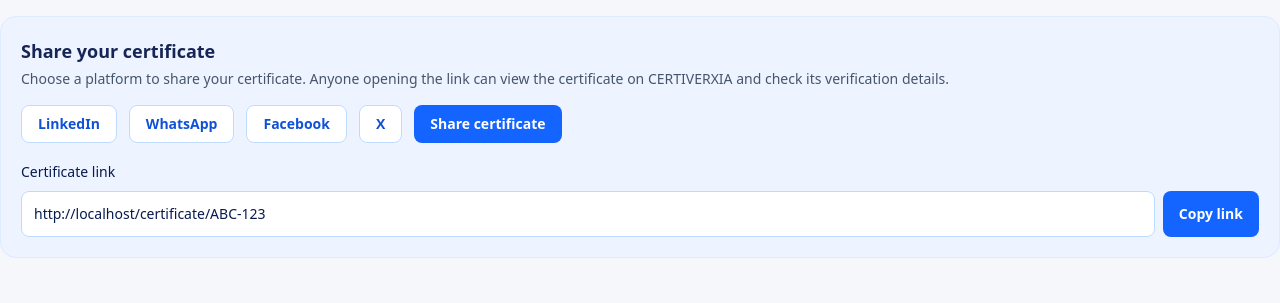
native share handles NotAllowedError and remains usable
The image size is (1280, 303).
Click the button "Share certificate" at [488, 124], box [414,105,562,143]
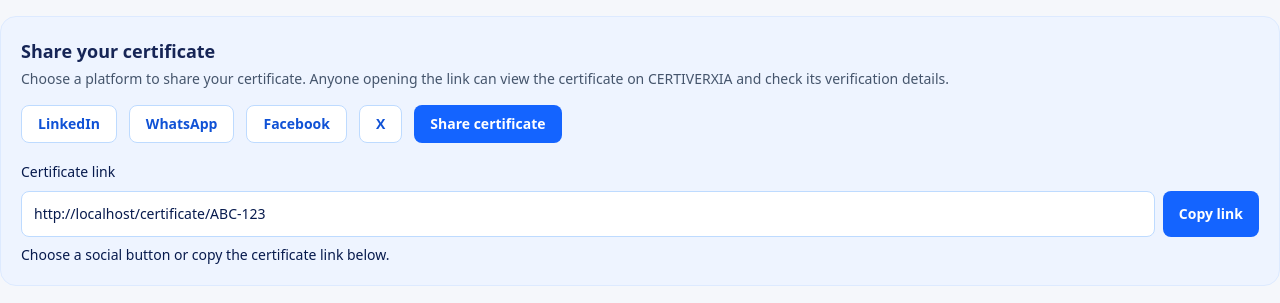
Now the message reads "Choose a social button or copy the certificate link below.", box [21,245,390,264]
